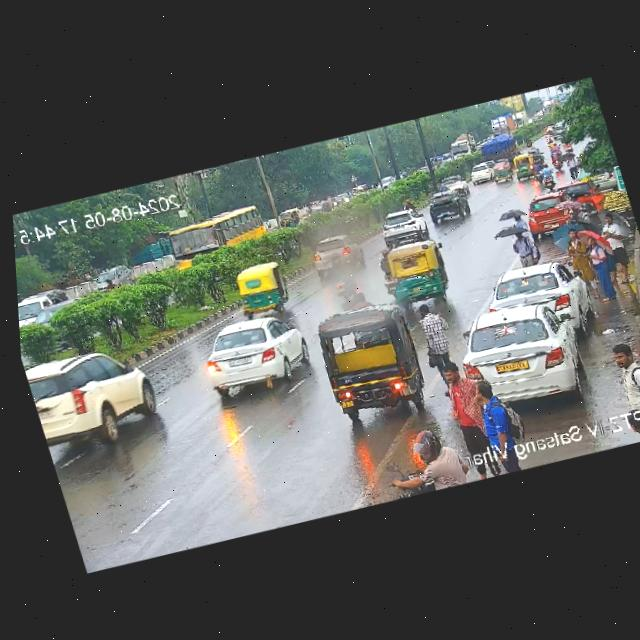bus: (20, 332, 165, 452), (159, 202, 277, 267)
car: (448, 293, 594, 414), (302, 296, 431, 426), (190, 306, 316, 403), (480, 253, 592, 336), (24, 339, 140, 400), (374, 236, 461, 316), (227, 258, 296, 321), (306, 229, 368, 274), (374, 202, 426, 249), (519, 193, 575, 236), (421, 189, 469, 226), (17, 288, 55, 328), (433, 173, 469, 199), (462, 161, 497, 186), (510, 151, 537, 183), (490, 156, 517, 185)
motorcycle: (379, 423, 461, 499), (322, 256, 359, 303), (572, 194, 599, 221), (540, 161, 558, 192), (531, 160, 547, 187), (548, 146, 564, 172)
person: (436, 356, 498, 477), (412, 296, 459, 372), (494, 212, 545, 268), (597, 211, 633, 280), (583, 233, 617, 306), (608, 339, 640, 396), (562, 224, 591, 275), (563, 153, 580, 179)
truck: (473, 130, 516, 164), (446, 132, 478, 160), (487, 112, 516, 134), (510, 109, 531, 130)
